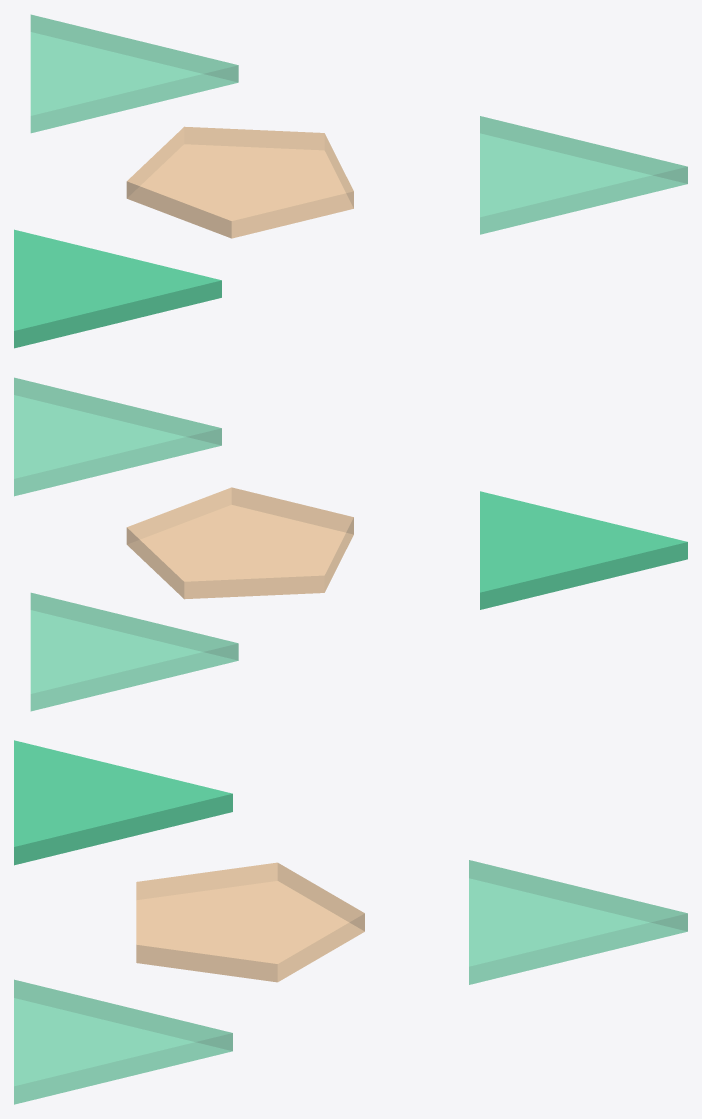
File: fiore_step5.glb
The picture shows the model from 3 angles, top to bottom: view 1: azimuth 30°, elevation 25°; view 2: azimuth 150°, elevation 25°; view 3: azimuth 270°, elevation 25°; orthographic projection. The views are drawn at different scales.
Parts seen in each view (by area): view 1: pentagono, triangolo_equilatero, triangolo_equilatero.002, triangolo_equilatero.001; view 2: pentagono, triangolo_equilatero, triangolo_equilatero.001, triangolo_equilatero.002; view 3: pentagono, triangolo_equilatero, triangolo_equilatero.001, triangolo_equilatero.002.
Boxes of the visible parts, bbox=[...] form: pentagono: bbox=[126, 126, 353, 238]; triangolo_equilatero: bbox=[30, 14, 238, 133]; triangolo_equilatero.002: bbox=[14, 229, 221, 348]; triangolo_equilatero.001: bbox=[480, 116, 687, 234]; pentagono: bbox=[126, 487, 353, 599]; triangolo_equilatero: bbox=[30, 592, 238, 711]; triangolo_equilatero.001: bbox=[14, 377, 221, 496]; triangolo_equilatero.002: bbox=[480, 491, 687, 609]; pentagono: bbox=[136, 862, 364, 982]; triangolo_equilatero: bbox=[469, 860, 687, 984]; triangolo_equilatero.001: bbox=[14, 979, 232, 1104]; triangolo_equilatero.002: bbox=[14, 740, 232, 865].
Size of the model in its own units: 3.24 by 0.08 by 2.67.
